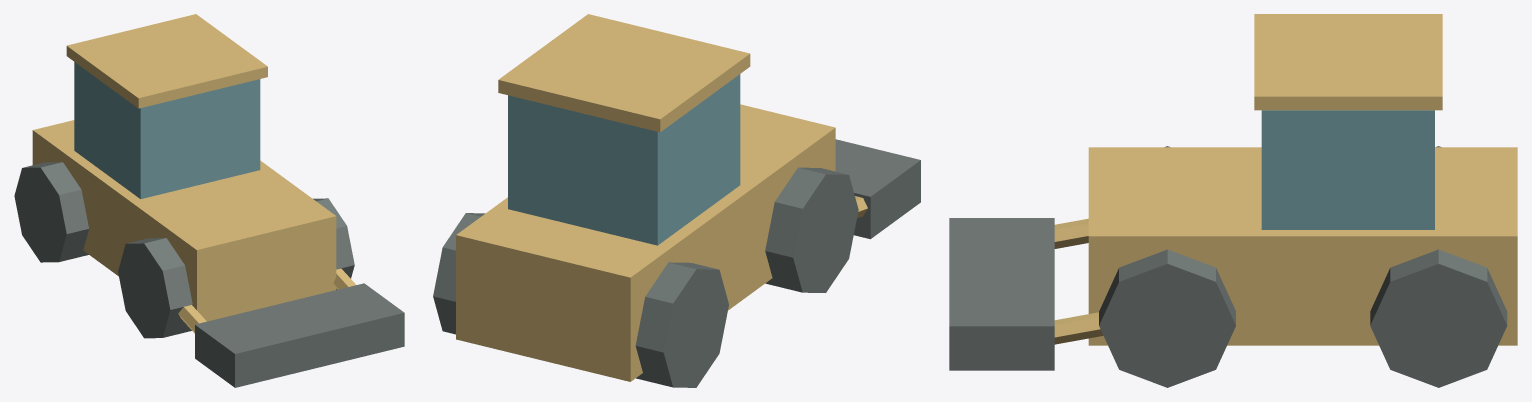
3 renders of one model, left to right at view 1: azimuth 30°, elevation 25°; view 2: azimuth 150°, elevation 25°; view 3: azimuth 270°, elevation 25°, orthographic. The views are drawn at different scales.
Bounding box in the file's own units: 3.7 × 4.01 × 7.55.
